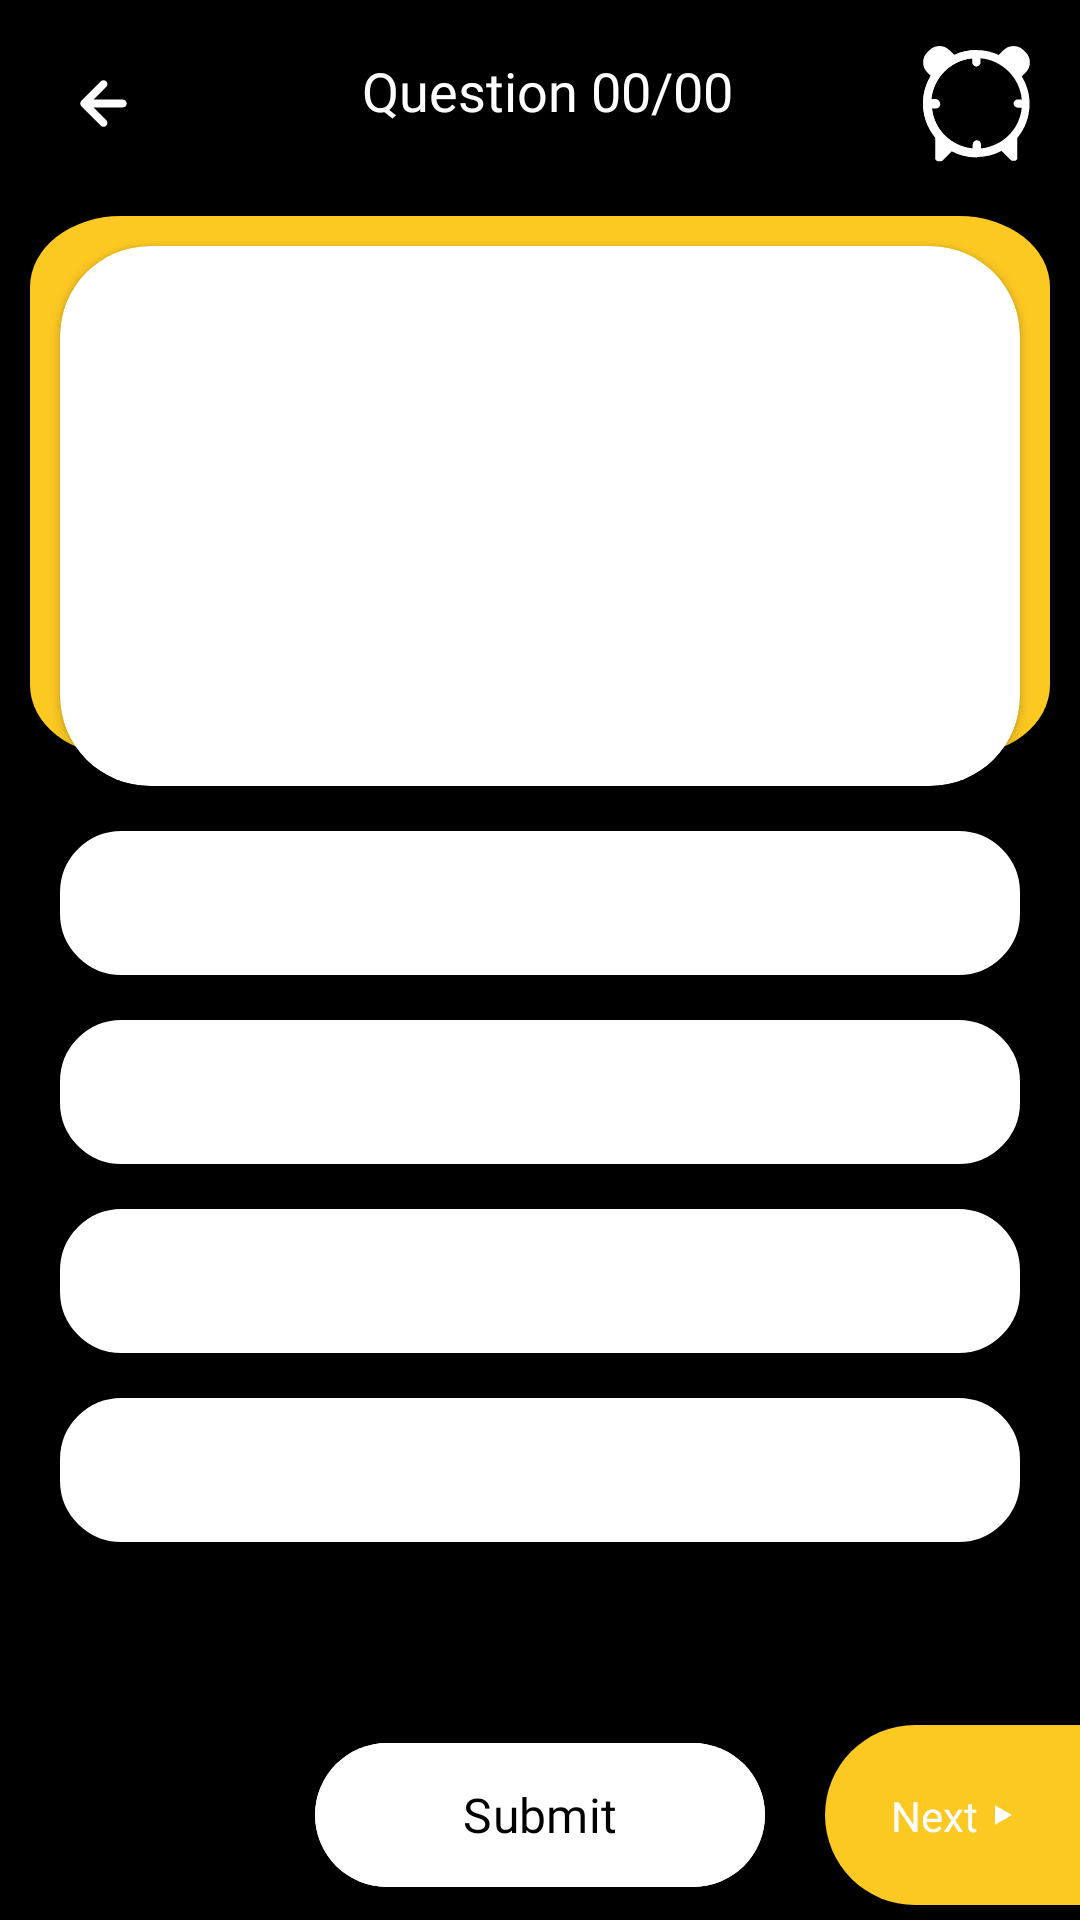

Where icons sit on this 1080 x 1920 app screen, as [x1, y1, x2, y2]:
back: [80, 80, 127, 127]
clock: [923, 46, 1030, 162]
